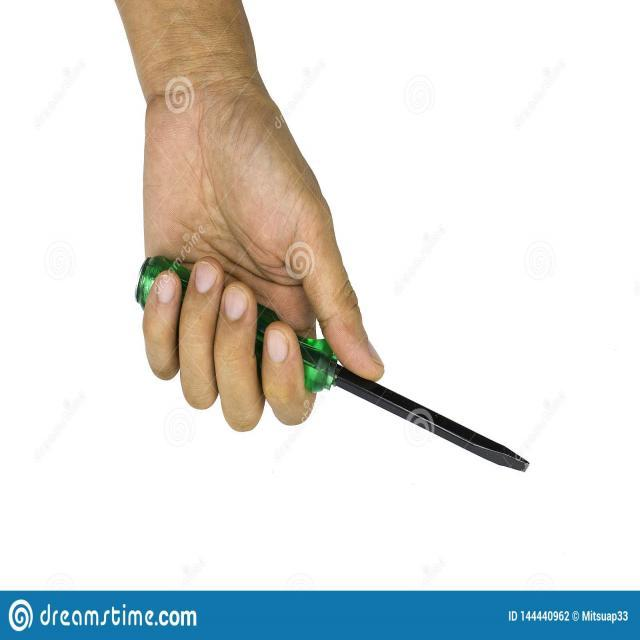screwdriver: (130, 250, 532, 482)
